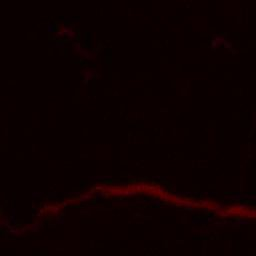debris: (212, 204, 255, 218), (99, 183, 130, 198), (71, 186, 98, 202), (177, 198, 212, 210), (130, 182, 157, 197), (48, 197, 70, 215), (155, 187, 177, 203), (33, 207, 49, 224), (10, 223, 30, 234)
